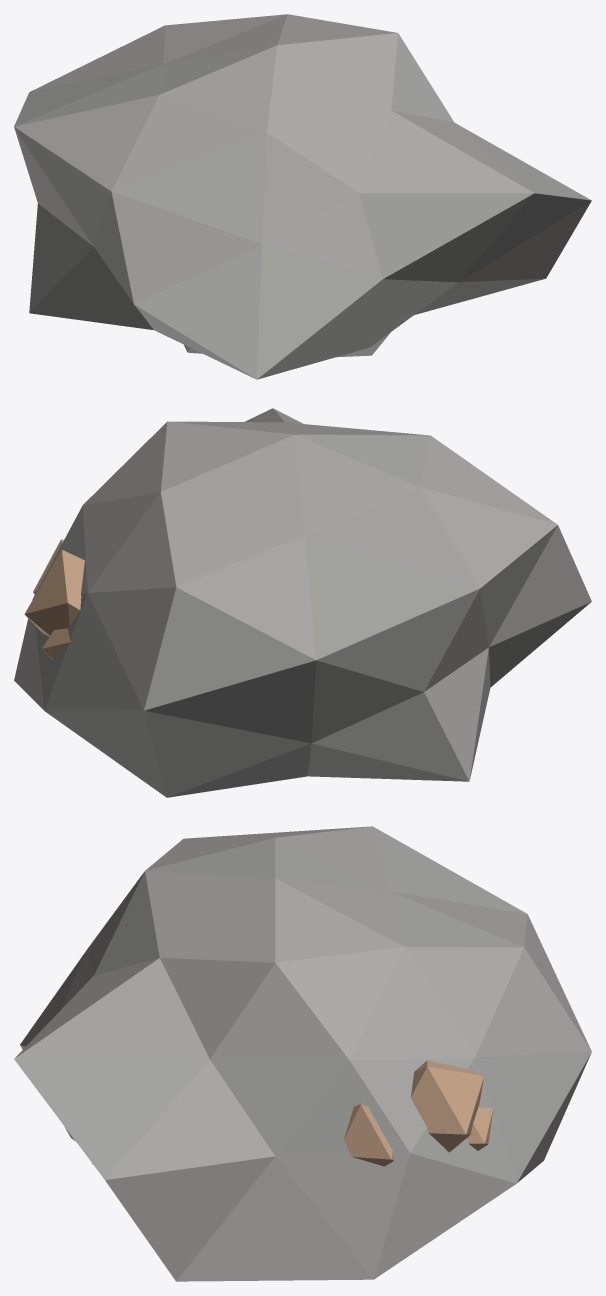
File: node_metal_1.glb
3 views of the same model, one above another, from view 1: azimuth 30°, elevation 25°; view 2: azimuth 150°, elevation 25°; view 3: azimuth 270°, elevation 25° (orthographic). The views are drawn at different scales.
Visible parts, largest first — view 1: node_metal_1; view 2: node_metal_1; view 3: node_metal_1.
Part boxes in pixels (x1,y1,x2,y2): node_metal_1: [14, 14, 591, 379]; node_metal_1: [14, 408, 591, 797]; node_metal_1: [14, 826, 591, 1281].
Size of the model in its own units: 1.98 by 1.06 by 1.96.
